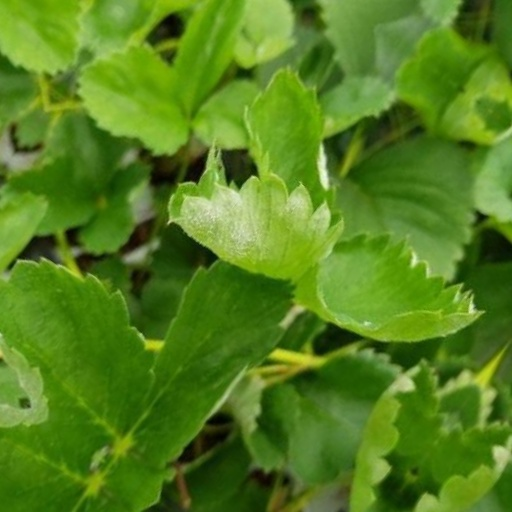Powdery Mildew Leaf: (48, 364, 260, 511), (306, 148, 476, 273), (150, 169, 314, 284), (159, 83, 292, 192)
